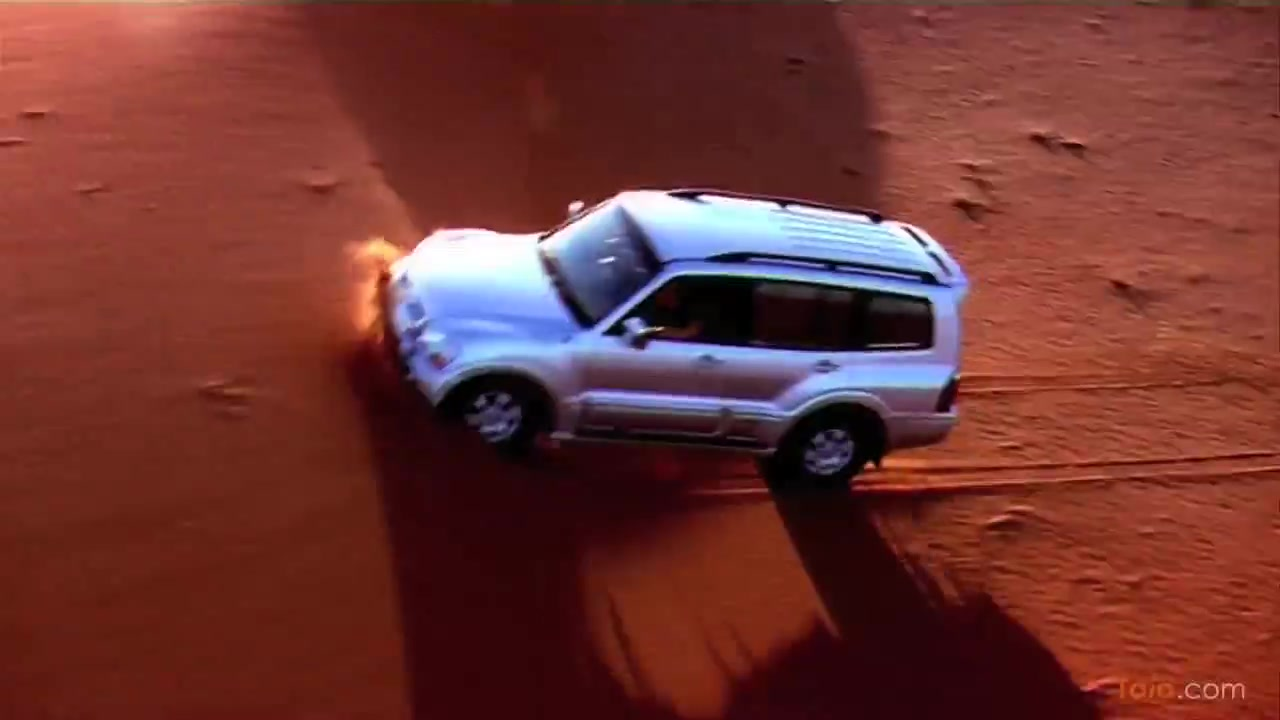car: (379, 174, 968, 497)
